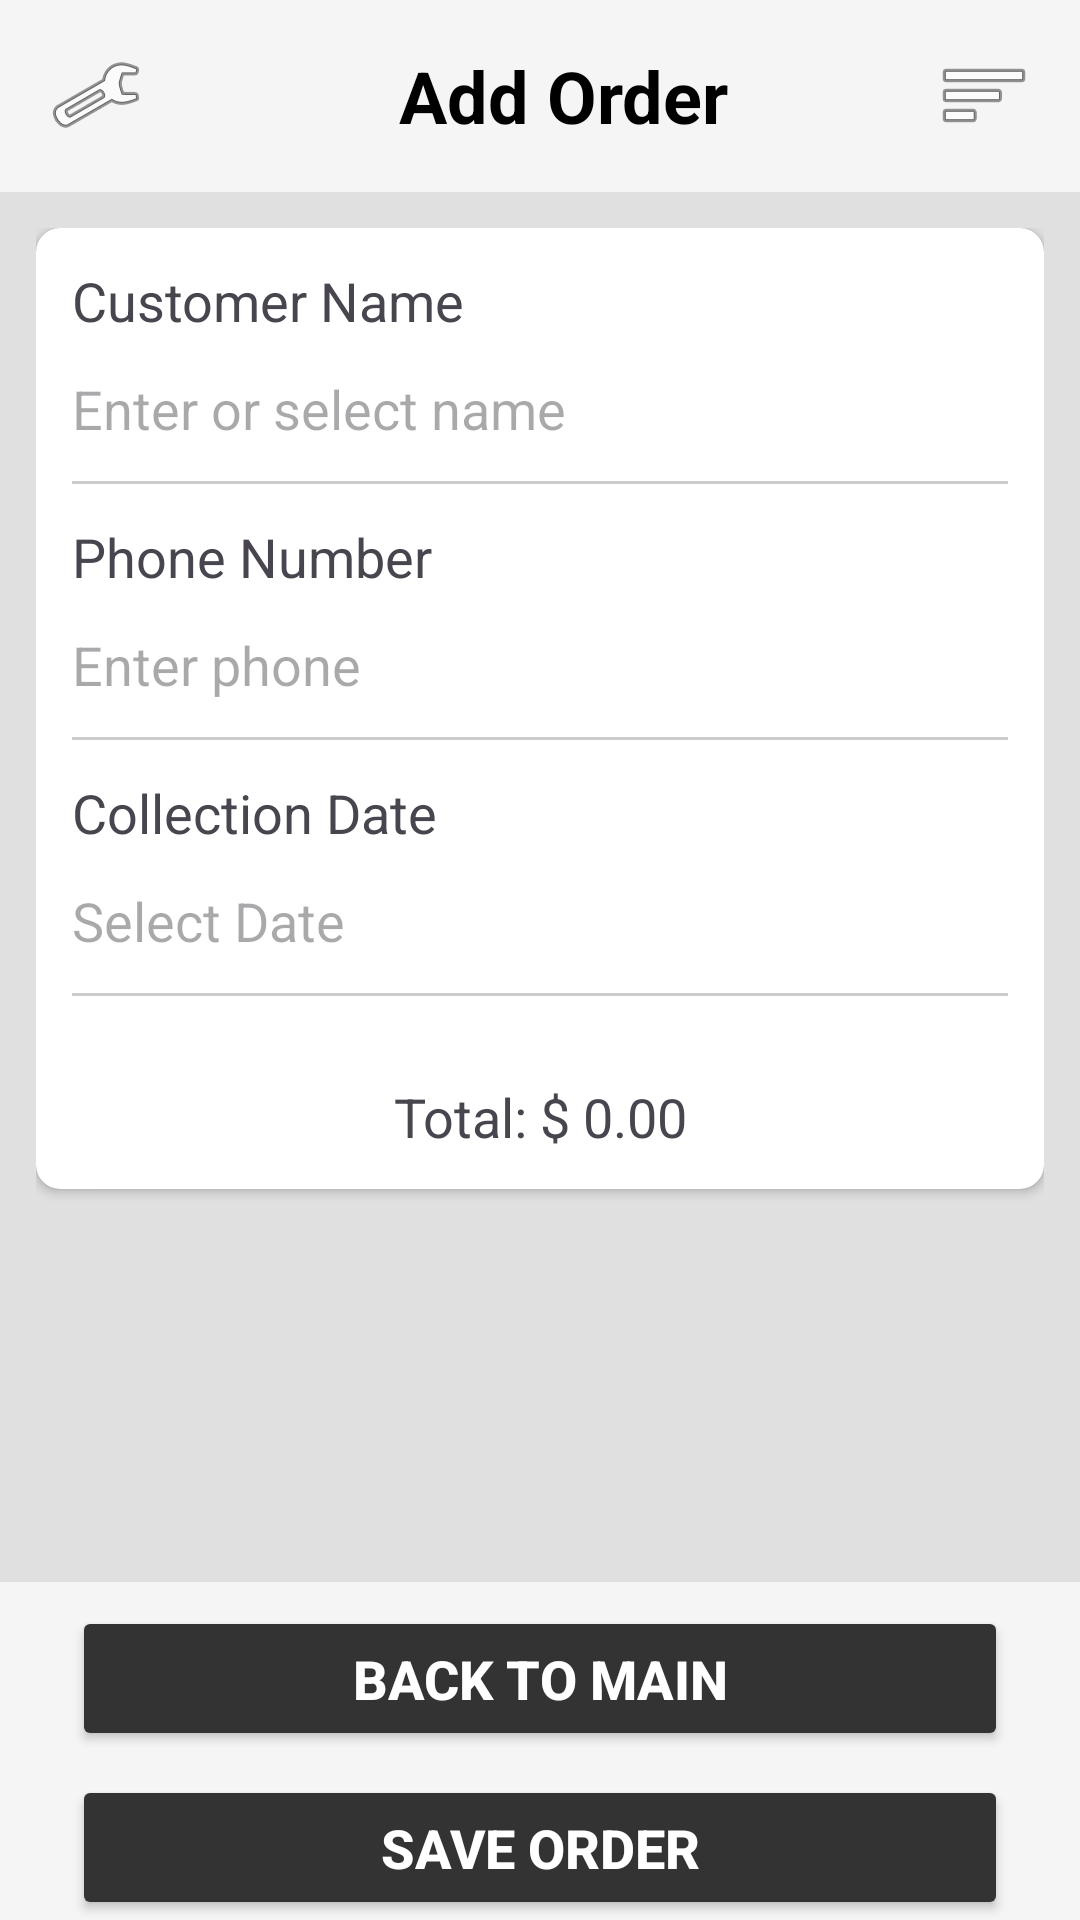

Where icons sit on this 1080px×1920px app screen, as BBox(x1, y1, x2, y2):
preferences: BBox(53, 62, 139, 128)
sort by size: BBox(943, 69, 1025, 122)
